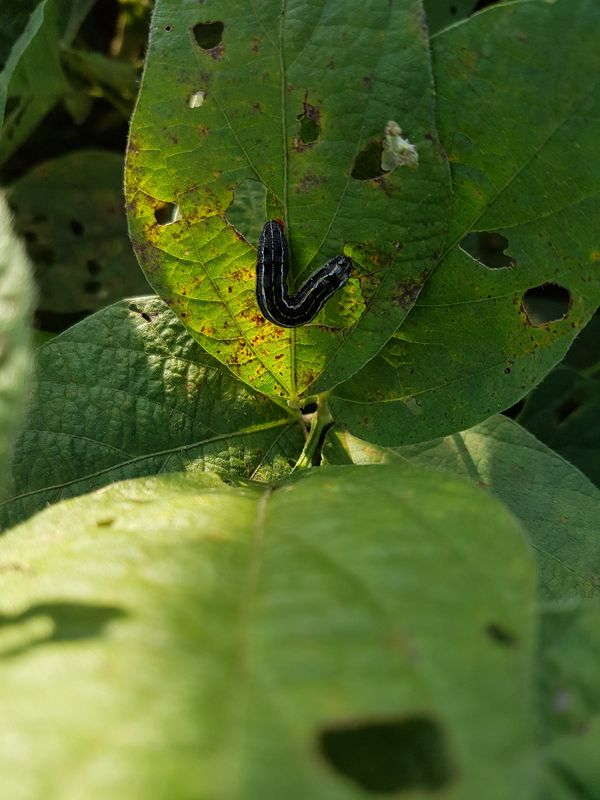Spodoptera_albula: (234, 206, 369, 335)
